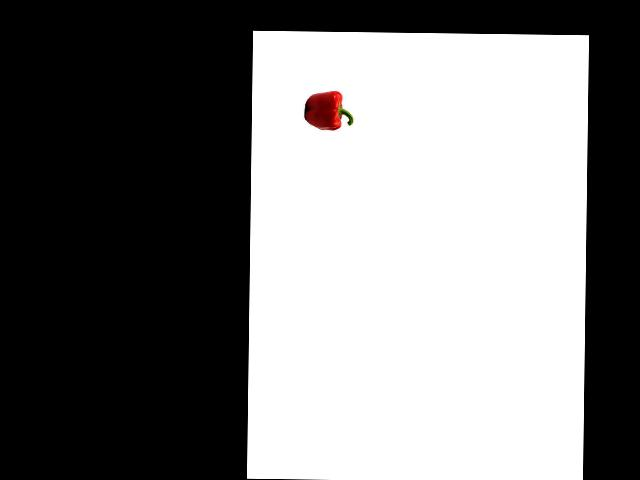bell_pepper: (302, 88, 355, 133)
